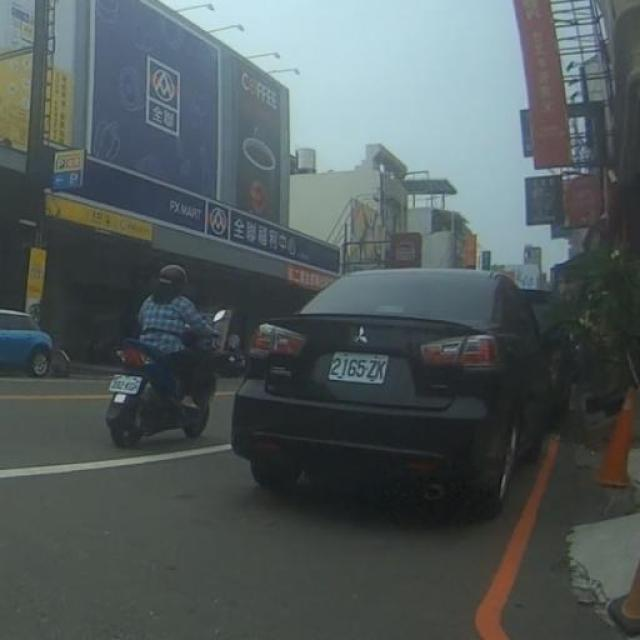illegalparking: (227, 216, 556, 543)
